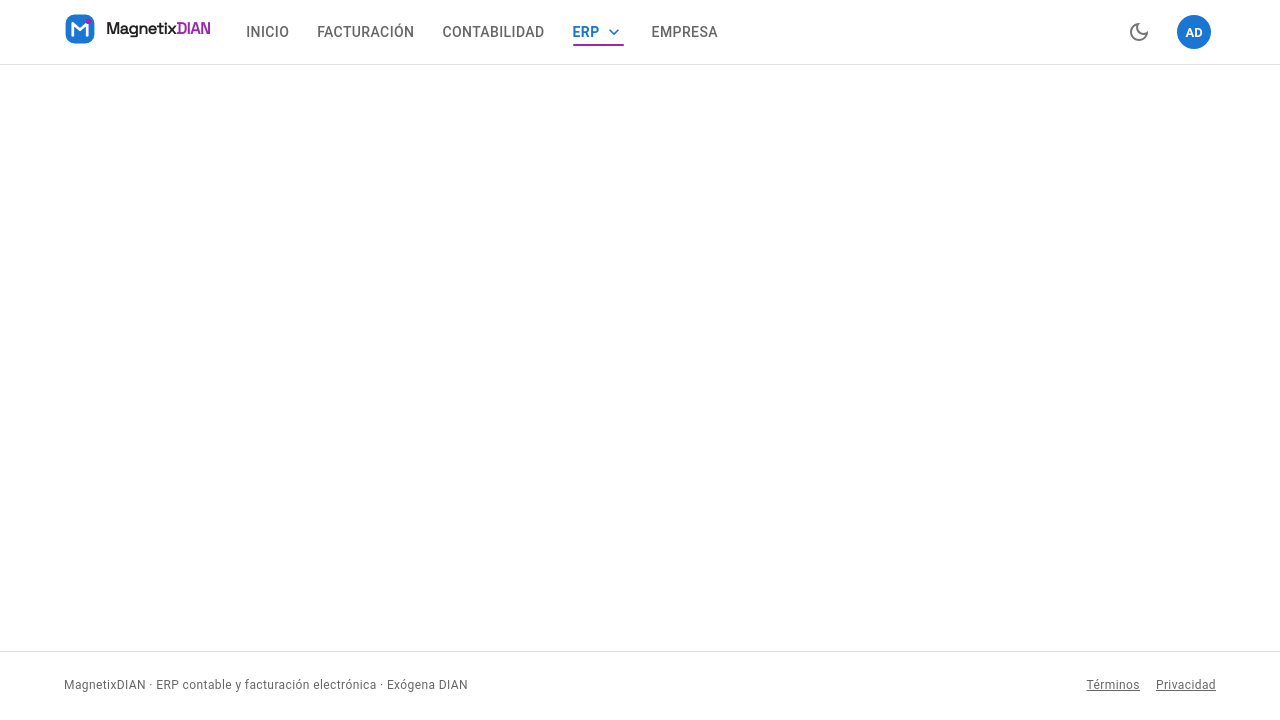
Test case: AppLayout › alterna el submenú ERP al pulsar ERP dos veces
What coordinates should you click on to do the following:
click the button "ERP"
I would click on:
 (598, 32)
Its box is [561,14,636,50].
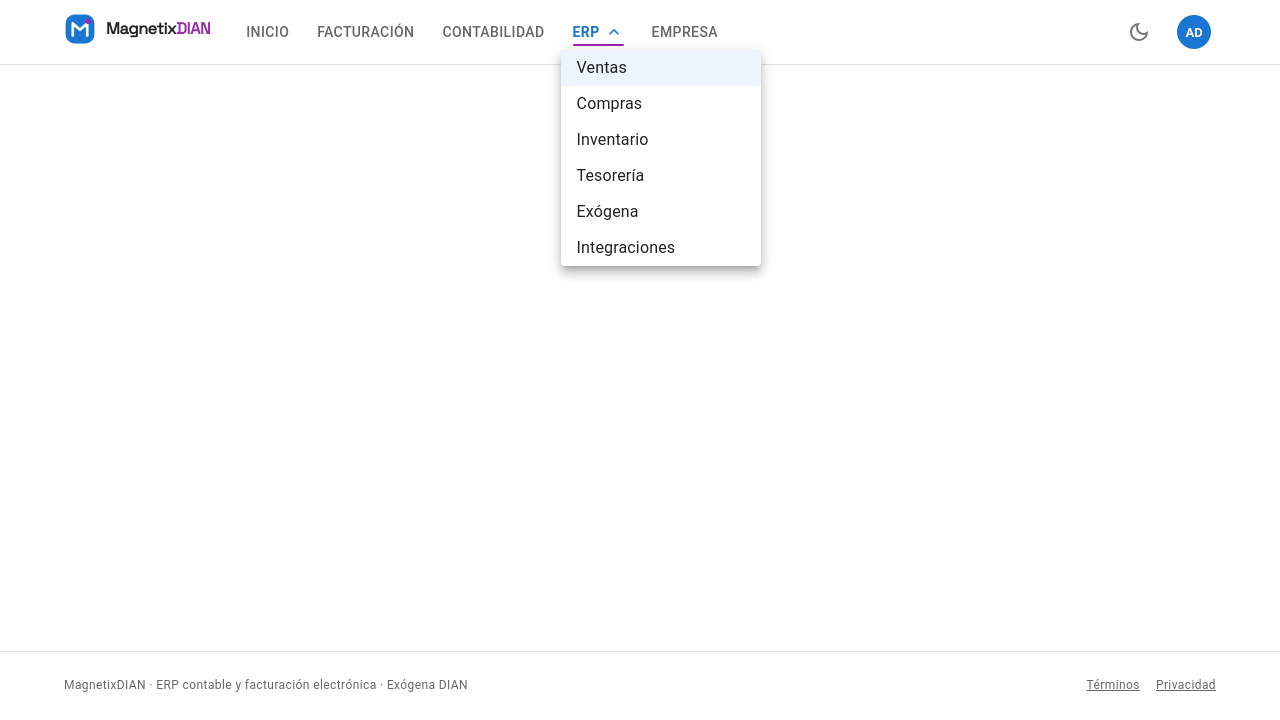
Now the menu is shown, box [561,50,761,266]
What coordinates should you click on to do the following:
click the button "ERP"
I would click on:
 (598, 32)
Its box is [561,14,636,50].
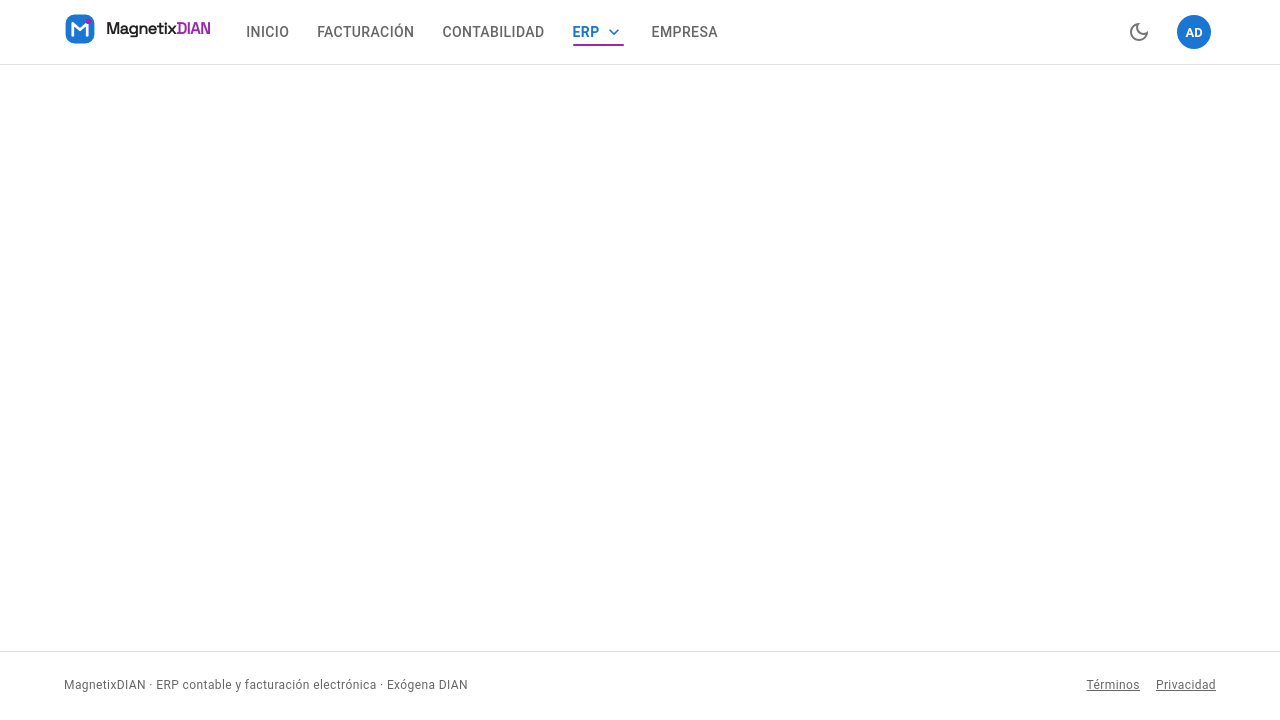
Now the menu is gone
